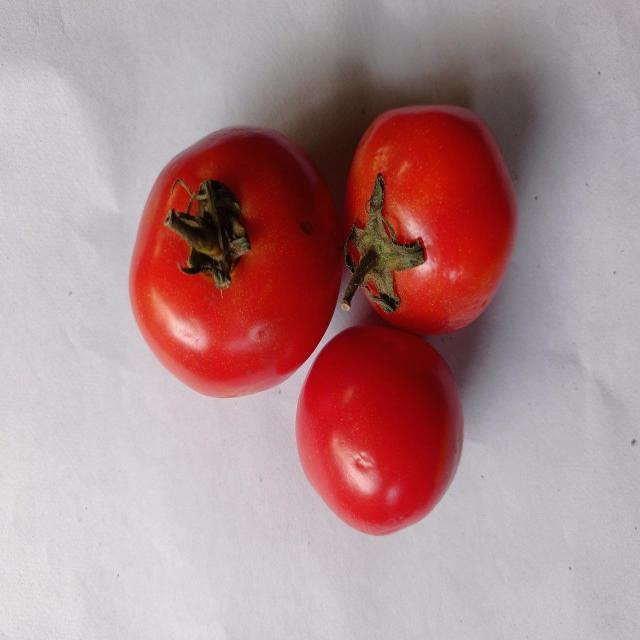Ripe: (126, 125, 344, 400), (348, 99, 520, 338), (294, 324, 468, 538)
